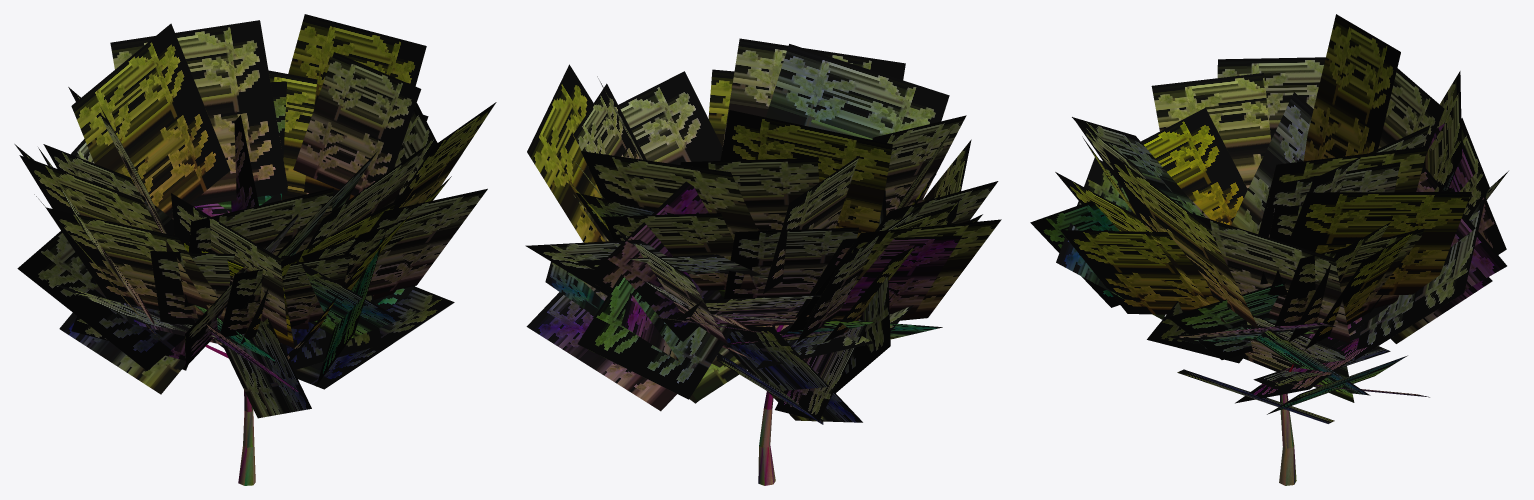
Rendered from tree-ornamental-lo.glb.
3 views of the same model, side by side, from view 1: azimuth 30°, elevation 25°; view 2: azimuth 150°, elevation 25°; view 3: azimuth 270°, elevation 25° (orthographic).
Visible parts, largest first — view 1: lo-leaf, lo-bark; view 2: lo-leaf, lo-bark; view 3: lo-leaf, lo-bark.
Part boxes in pixels (x1=…): lo-leaf: x1=14, y1=14, x2=496, y2=418; lo-bark: x1=205, y1=344, x2=255, y2=485; lo-leaf: x1=525, y1=38, x2=1001, y2=424; lo-bark: x1=758, y1=325, x2=783, y2=485; lo-leaf: x1=1030, y1=14, x2=1508, y2=423; lo-bark: x1=1279, y1=364, x2=1296, y2=485.
Size of the model in its own units: 8.21 by 7.68 by 8.1.
Materials: 2 (2 with a texture image).
